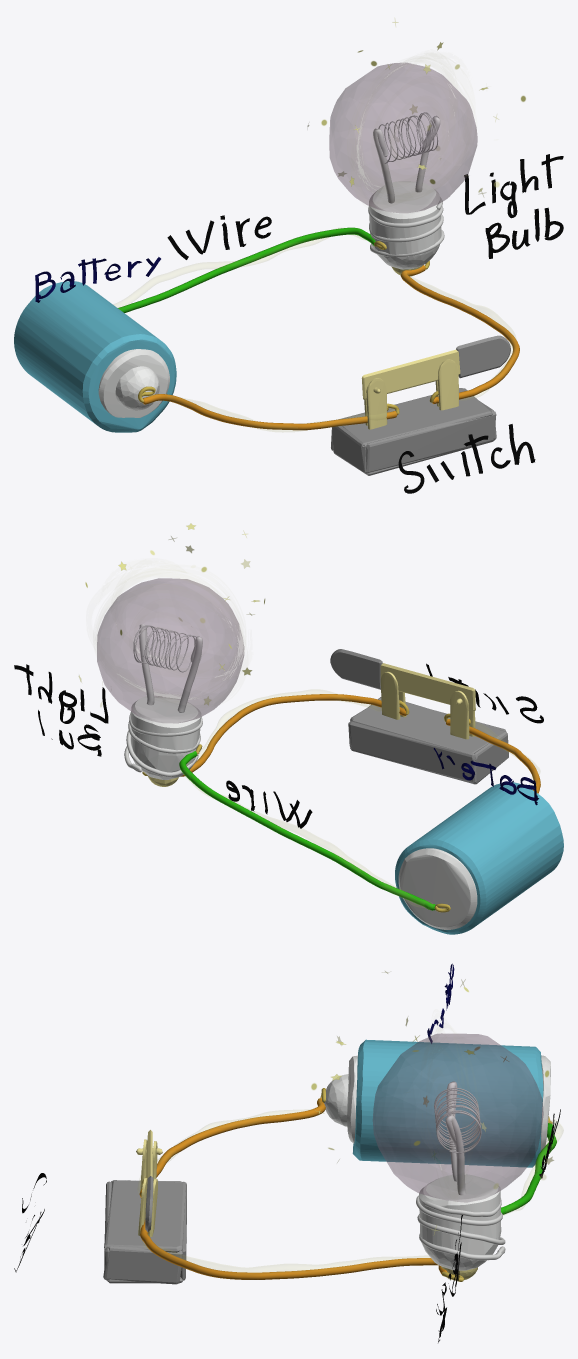
3 renders of one model, top to bottom at view 1: azimuth 30°, elevation 25°; view 2: azimuth 150°, elevation 25°; view 3: azimuth 270°, elevation 25°, orthographic. The views are drawn at different scales.
Visible parts, largest first — view 1: brush_MatteHull_g0_b0_0, brush_DiamondHull_g1_b0_8, brush_Icing_g0_b0_3, brush_MatteHull_g1_b0_9, brush_Icing_g1_b0_10, brush_Flat_g3_b0_14, brush_NeonPulse_g0_b0_6, brush_Flat_g2_b0_12, brush_Flat_g5_b0_18, brush_Flat_g4_b0_16; view 2: brush_MatteHull_g0_b0_0, brush_DiamondHull_g1_b0_8, brush_Icing_g0_b0_3, brush_MatteHull_g1_b0_9, brush_Icing_g1_b0_10, brush_NeonPulse_g0_b0_6, brush_Flat_g3_b0_14, brush_Flat_g5_b0_18, brush_Flat_g4_b0_16, brush_Flat_g2_b0_12; view 3: brush_MatteHull_g0_b0_0, brush_DiamondHull_g1_b0_8, brush_MatteHull_g1_b0_9, brush_Icing_g0_b0_3, brush_Icing_g1_b0_10, brush_NeonPulse_g0_b0_6, brush_Stars_g0_b0_5, brush_Flat_g3_b0_14.
Part boxes in pixels (left/top/right/bottom): brush_MatteHull_g0_b0_0: left=14, top=281, right=510, bottom=475; brush_DiamondHull_g1_b0_8: left=329, top=62, right=477, bottom=212; brush_Icing_g0_b0_3: left=118, top=227, right=519, bottom=430; brush_MatteHull_g1_b0_9: left=369, top=181, right=441, bottom=276; brush_Icing_g1_b0_10: left=368, top=112, right=444, bottom=256; brush_Flat_g3_b0_14: left=464, top=154, right=563, bottom=258; brush_NeonPulse_g0_b0_6: left=114, top=228, right=515, bottom=431; brush_Flat_g2_b0_12: left=398, top=424, right=535, bottom=493; brush_Flat_g5_b0_18: left=35, top=257, right=160, bottom=302; brush_Flat_g4_b0_16: left=167, top=215, right=271, bottom=259; brush_MatteHull_g0_b0_0: left=330, top=649, right=563, bottom=934; brush_DiamondHull_g1_b0_8: left=97, top=578, right=244, bottom=723; brush_Icing_g0_b0_3: left=142, top=694, right=540, bottom=912; brush_MatteHull_g1_b0_9: left=131, top=696, right=201, bottom=786; brush_Icing_g1_b0_10: left=124, top=624, right=202, bottom=776; brush_NeonPulse_g0_b0_6: left=182, top=690, right=539, bottom=908; brush_Flat_g3_b0_14: left=14, top=664, right=108, bottom=756; brush_Flat_g5_b0_18: left=433, top=748, right=538, bottom=805; brush_Flat_g4_b0_16: left=226, top=780, right=312, bottom=828; brush_Flat_g2_b0_12: left=426, top=663, right=543, bottom=723; brush_MatteHull_g0_b0_0: left=103, top=1039, right=550, bottom=1284; brush_DiamondHull_g1_b0_8: left=372, top=1033, right=543, bottom=1202; brush_MatteHull_g1_b0_9: left=419, top=1174, right=501, bottom=1279; brush_Icing_g0_b0_3: left=136, top=1088, right=556, bottom=1281; brush_Icing_g1_b0_10: left=416, top=1081, right=505, bottom=1260; brush_NeonPulse_g0_b0_6: left=138, top=1099, right=563, bottom=1279; brush_Stars_g0_b0_5: left=311, top=971, right=553, bottom=1234; brush_Flat_g3_b0_14: left=436, top=1215, right=462, bottom=1342.
Size of the model in its own units: 0.89 by 0.499 by 0.7006.
Materials: 7 (3 with a texture image).
